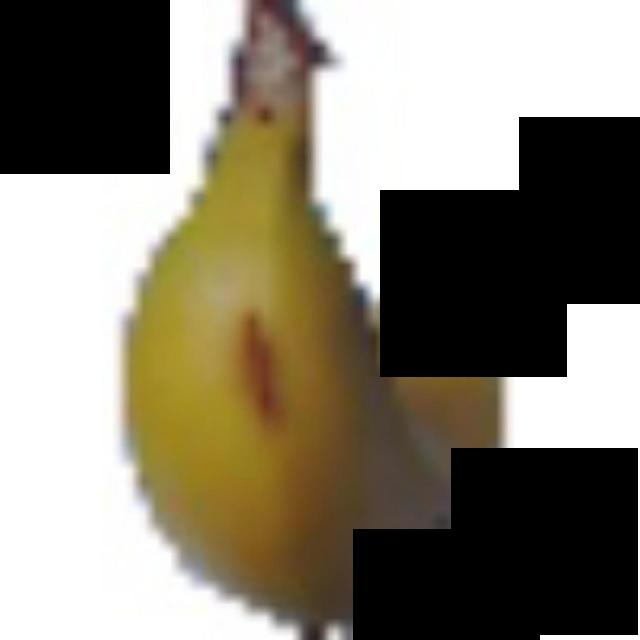banana: (120, 0, 504, 634)
